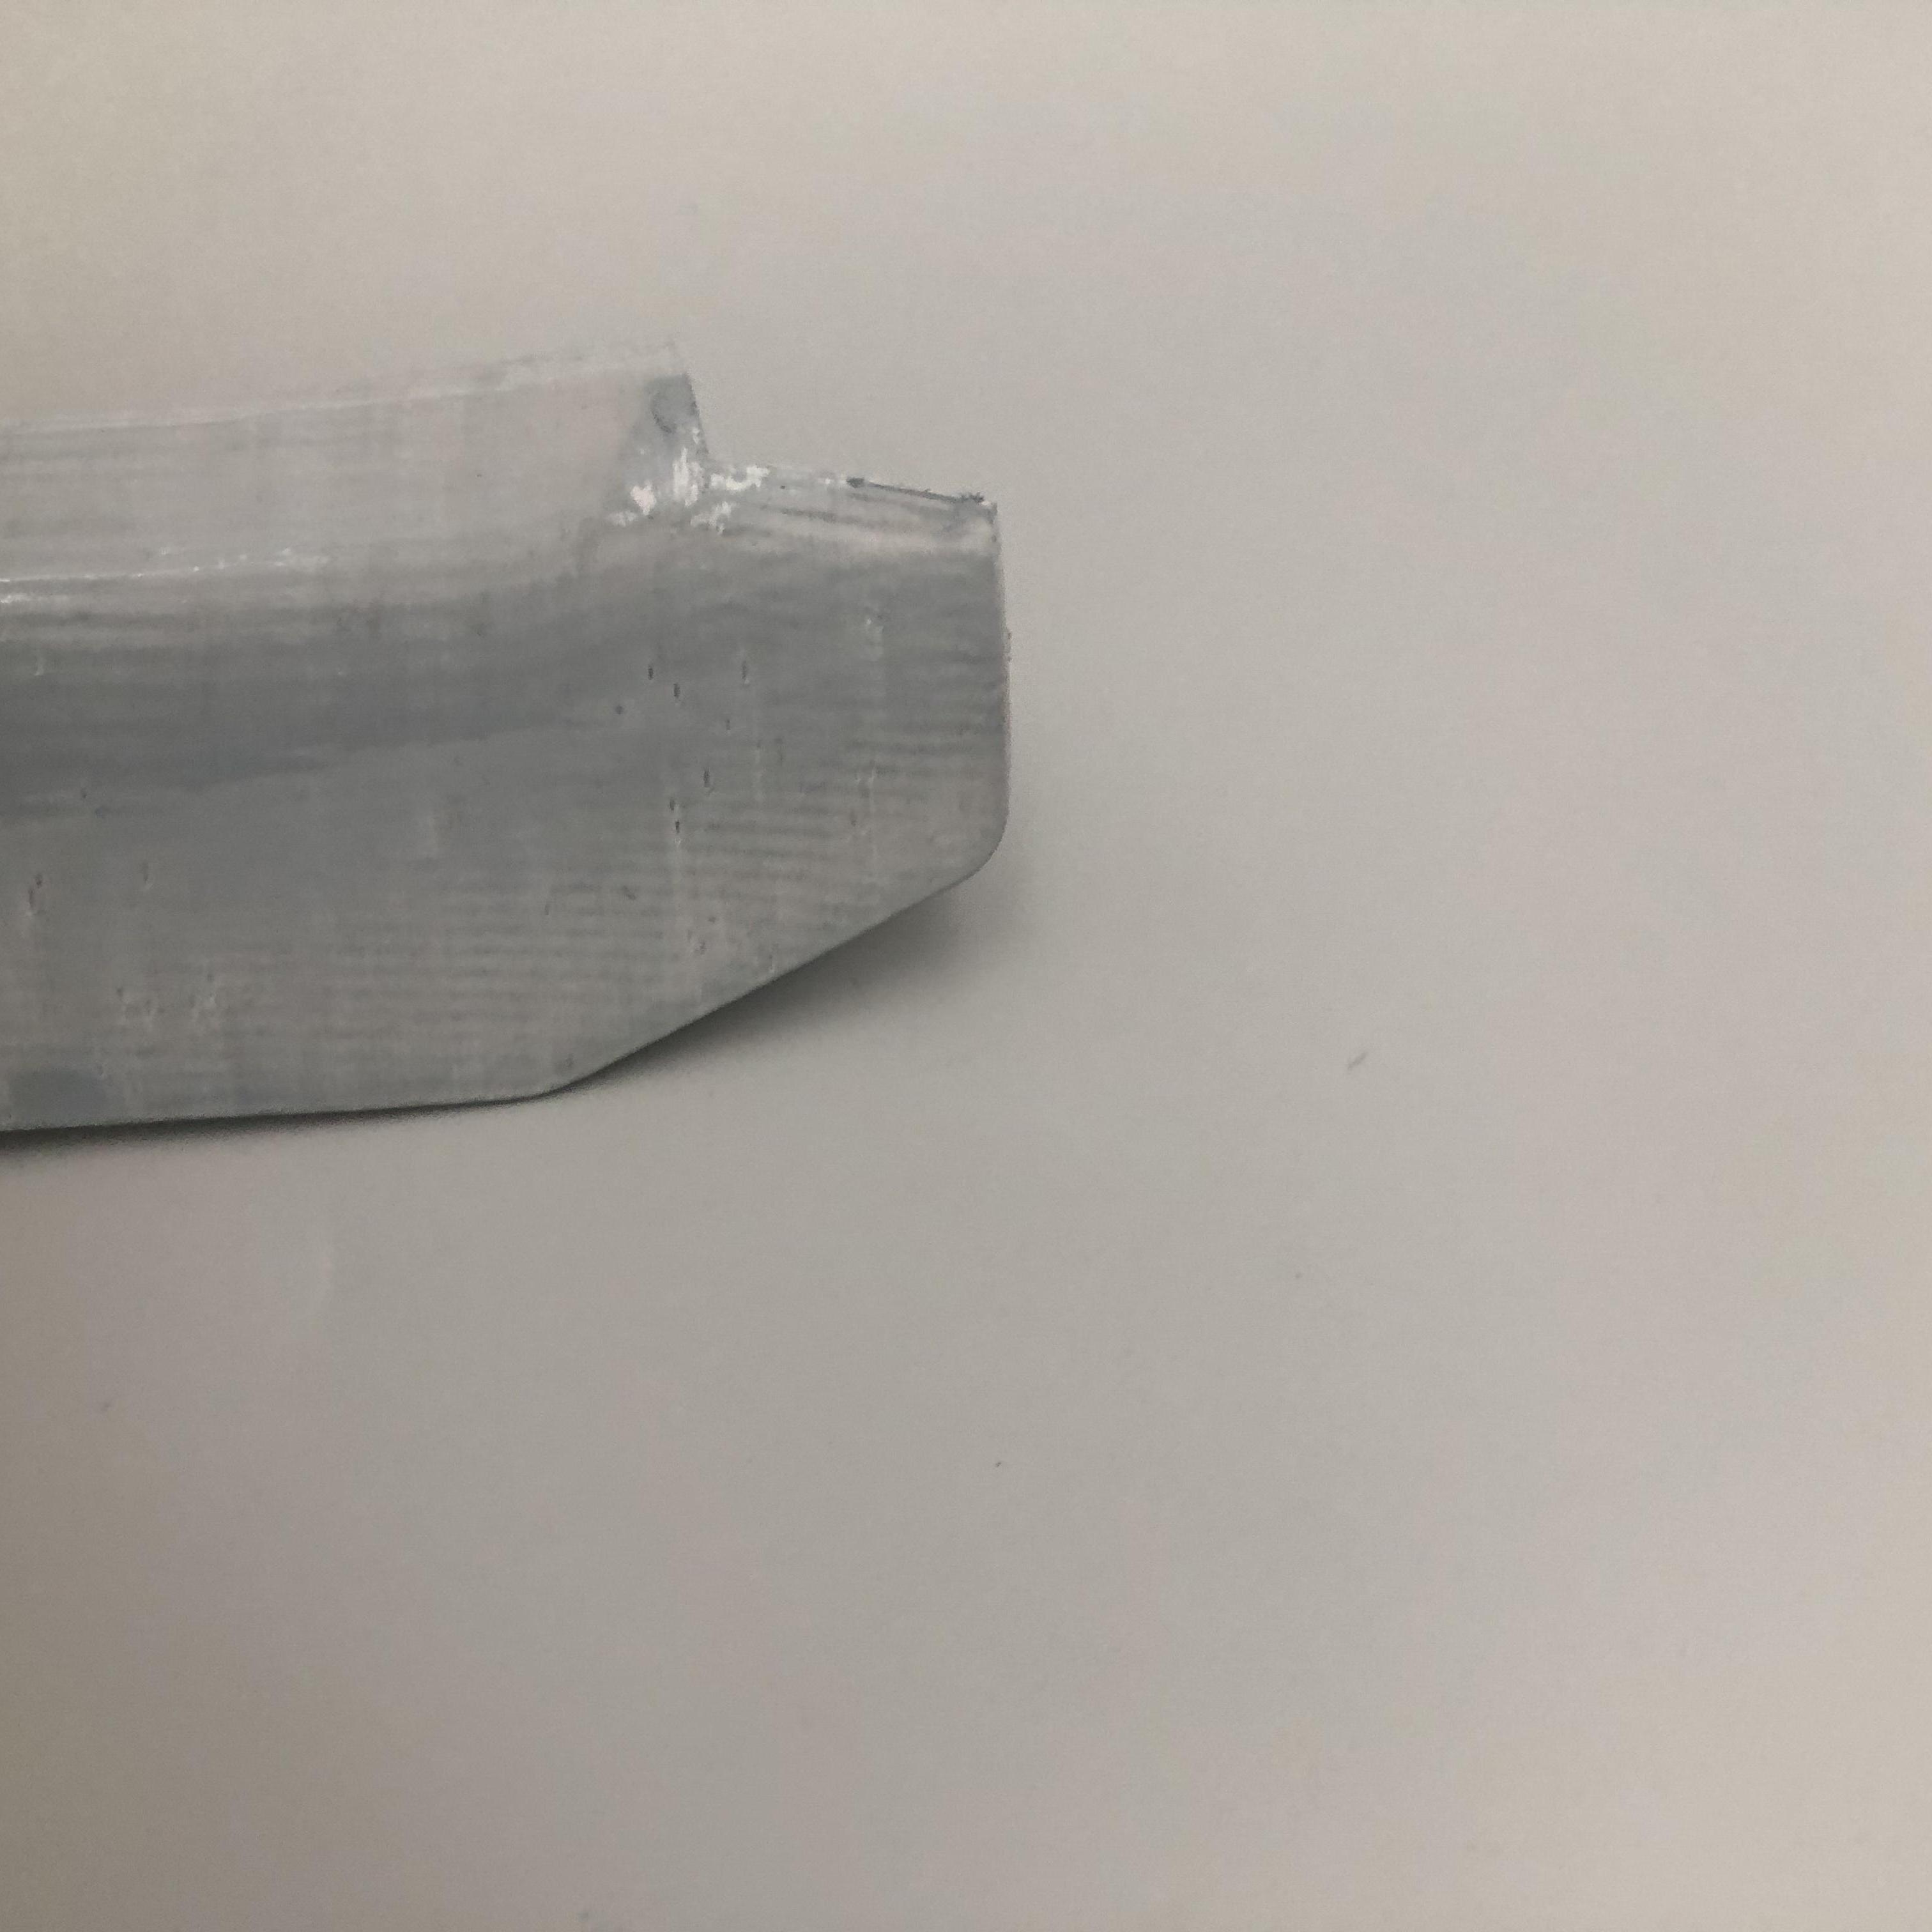fracture: (665, 334, 977, 534)
